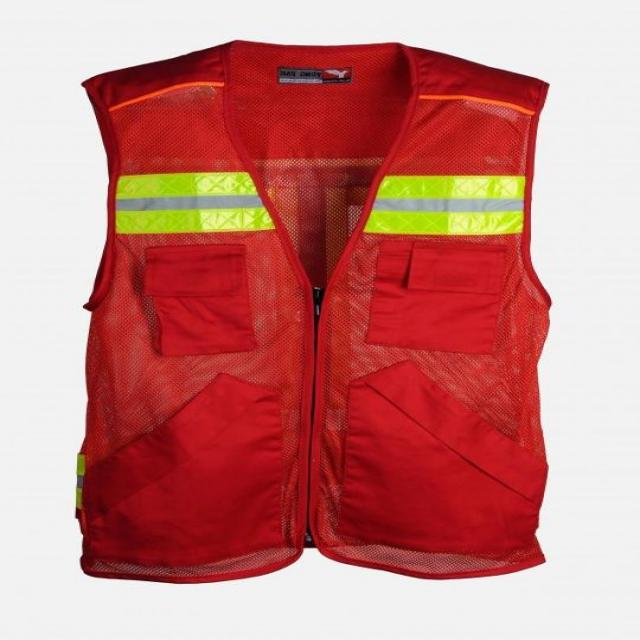Reflective-Jacket: (32, 19, 594, 602)
Safety-Helmet: (73, 1, 588, 92)
